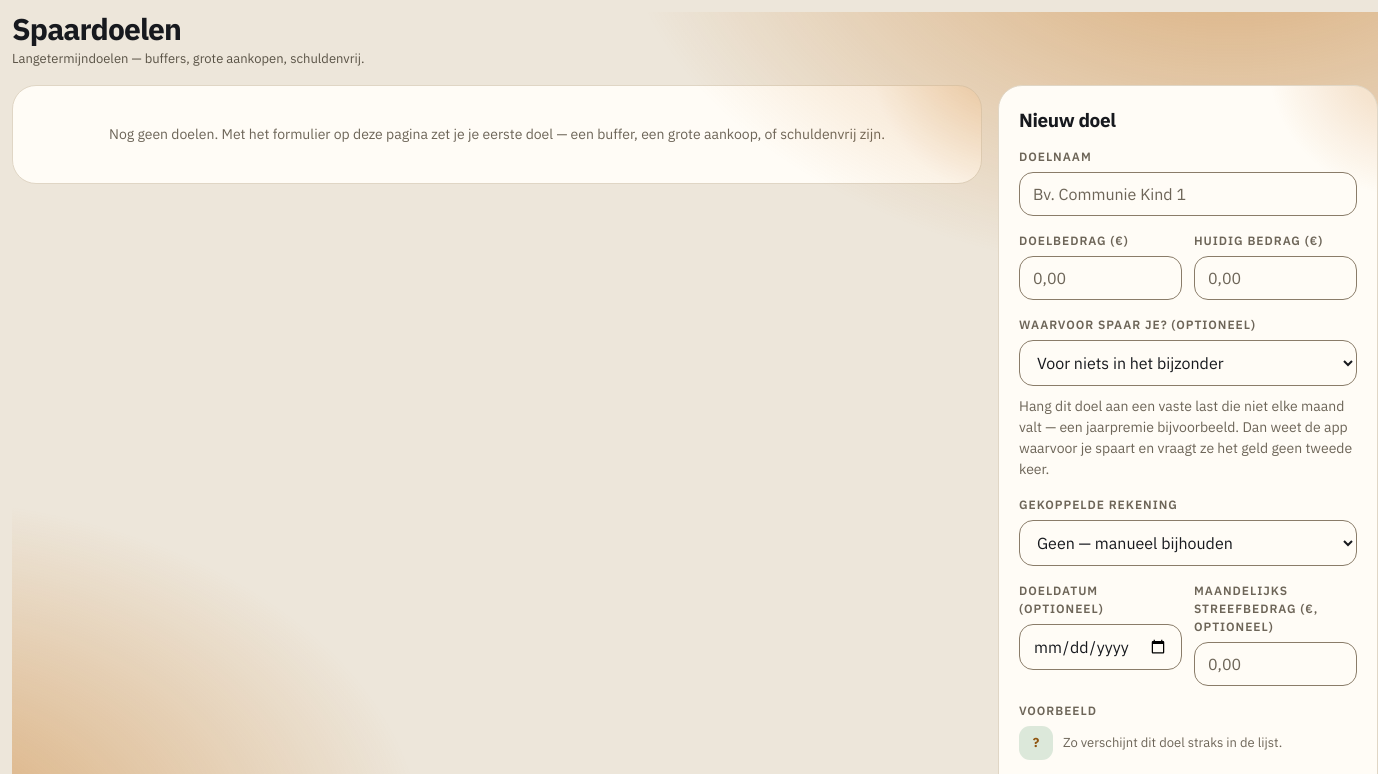
SpaardoelSectie — waarvoor spaar je? › vult de lege velden in zodra je een vaste last kiest
The image size is (1378, 774).
Select "Autoverzekering" in the dropdown labelled "Waarvoor spaar je? (optioneel)": (1188, 363) [1019,340,1357,386]
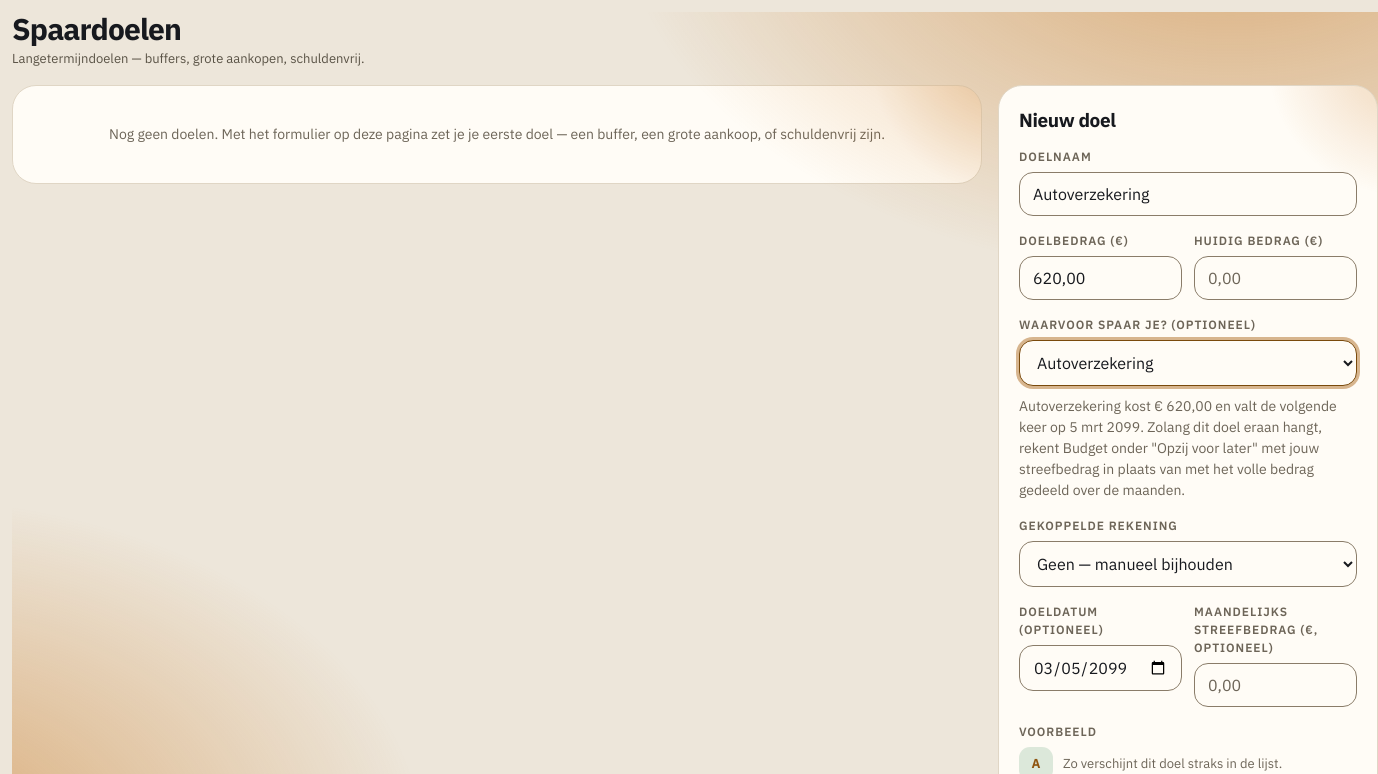
Check: the field labelled "Doelnaam" holds "Autoverzekering", box [1019,172,1357,216]
Check: the field labelled "Doelbedrag (€)" holds "620,00", box [1019,256,1182,300]
Check: the date field labelled "Doeldatum (optioneel)" holds "2099-03-05", box [1019,645,1182,691]
